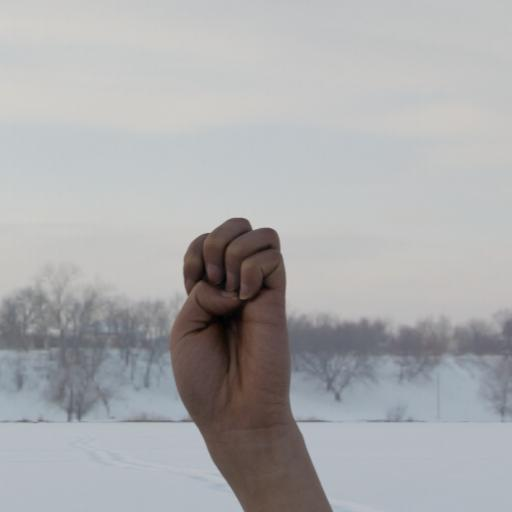E: (159, 208, 313, 464)
